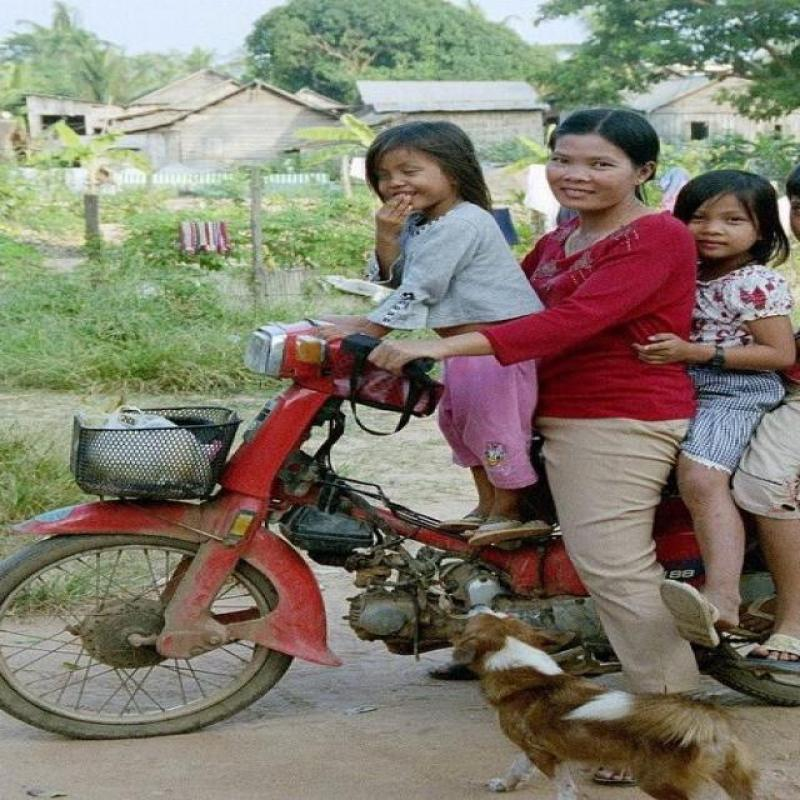nohelmet: (543, 97, 668, 224), (360, 110, 492, 219), (674, 170, 784, 268)
